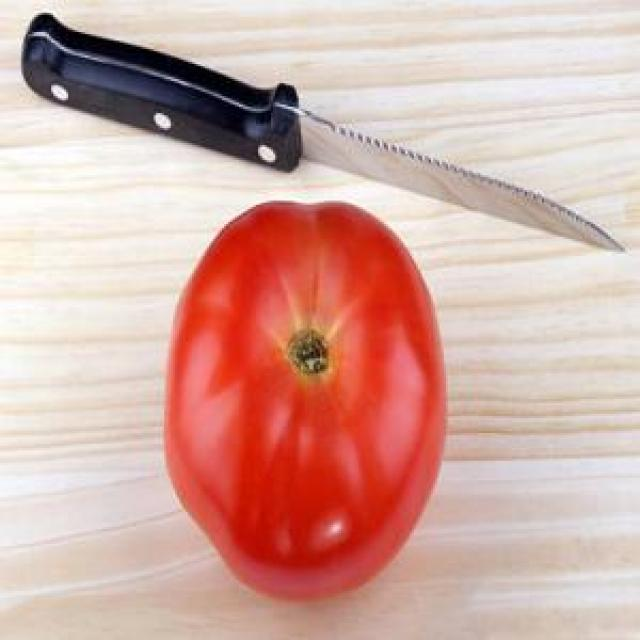knife: (6, 13, 638, 264)
